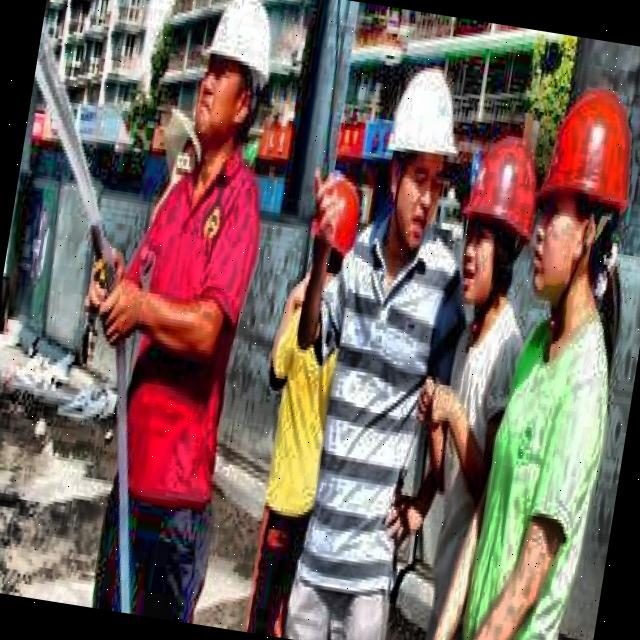helmet: (523, 89, 640, 327), (462, 130, 562, 325), (368, 54, 466, 248), (188, 0, 287, 168), (301, 171, 367, 289)
